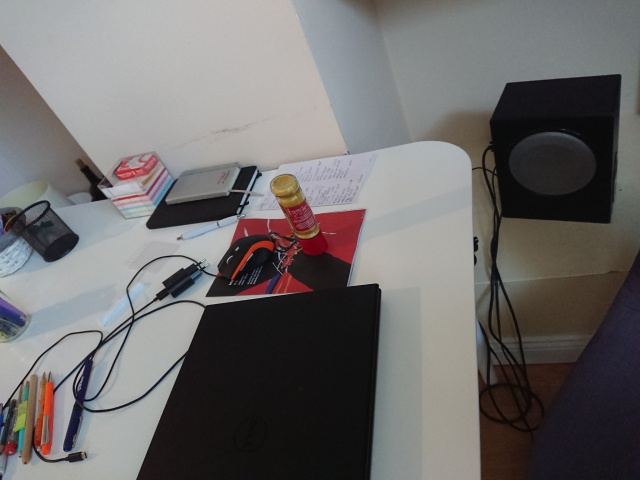Kotanyi Curry Spices Mix 70g: (268, 172, 331, 258)
